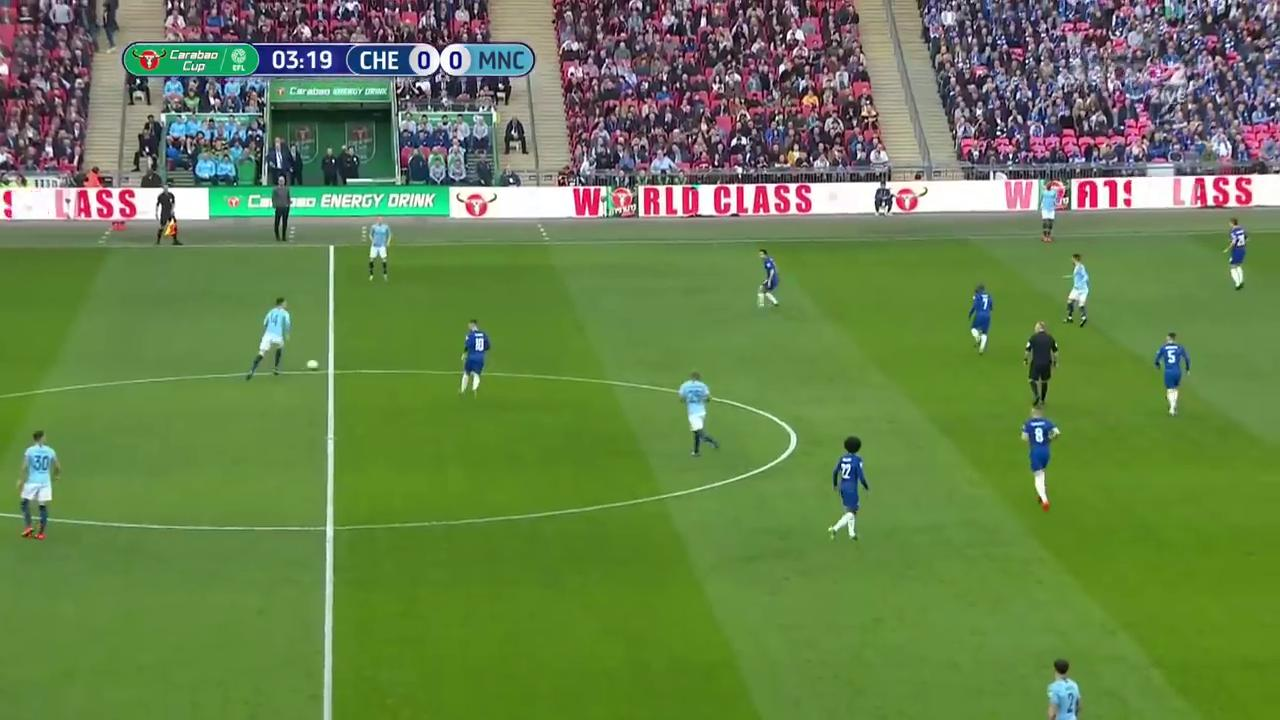ball: (305, 358, 320, 373)
player: (12, 425, 68, 544), (671, 367, 732, 460), (827, 431, 871, 543), (1016, 405, 1061, 508), (1150, 328, 1196, 415), (249, 292, 287, 380), (456, 318, 493, 403), (747, 246, 788, 314), (1062, 249, 1093, 330), (1042, 658, 1082, 720), (364, 214, 397, 283), (1219, 216, 1249, 290), (966, 278, 994, 354), (1038, 184, 1058, 240)
referee: (1018, 319, 1063, 405)
